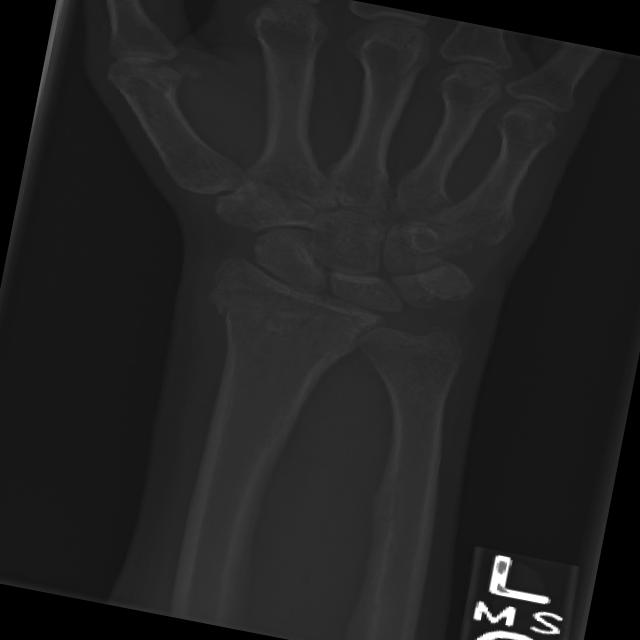wrist positive: (194, 270, 489, 371)
